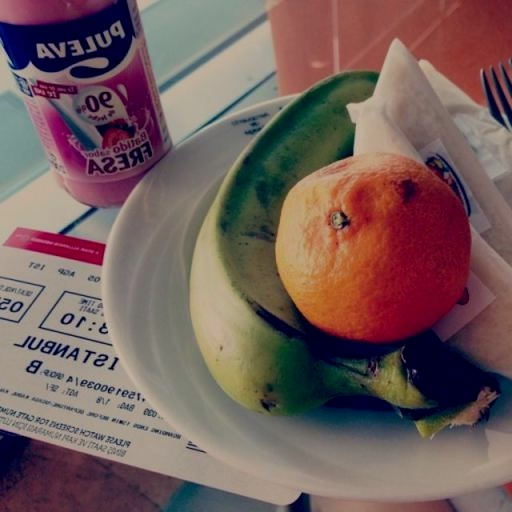fruit: (190, 72, 498, 435), (276, 153, 470, 342)
